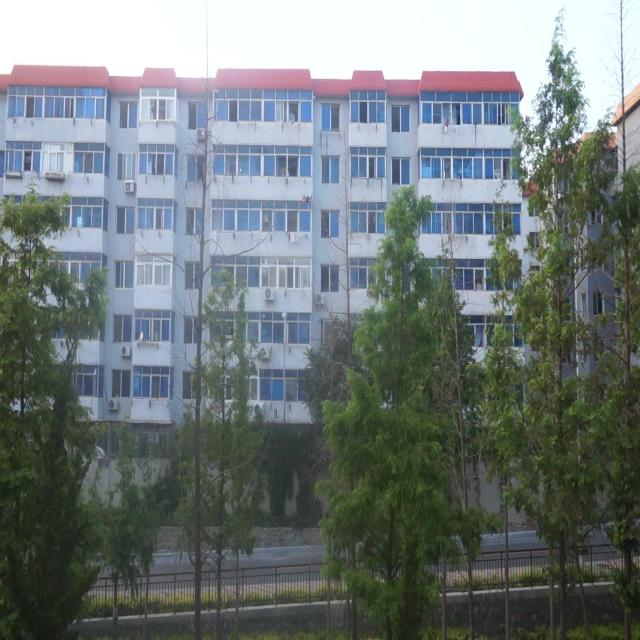drone: (300, 187, 314, 208)
